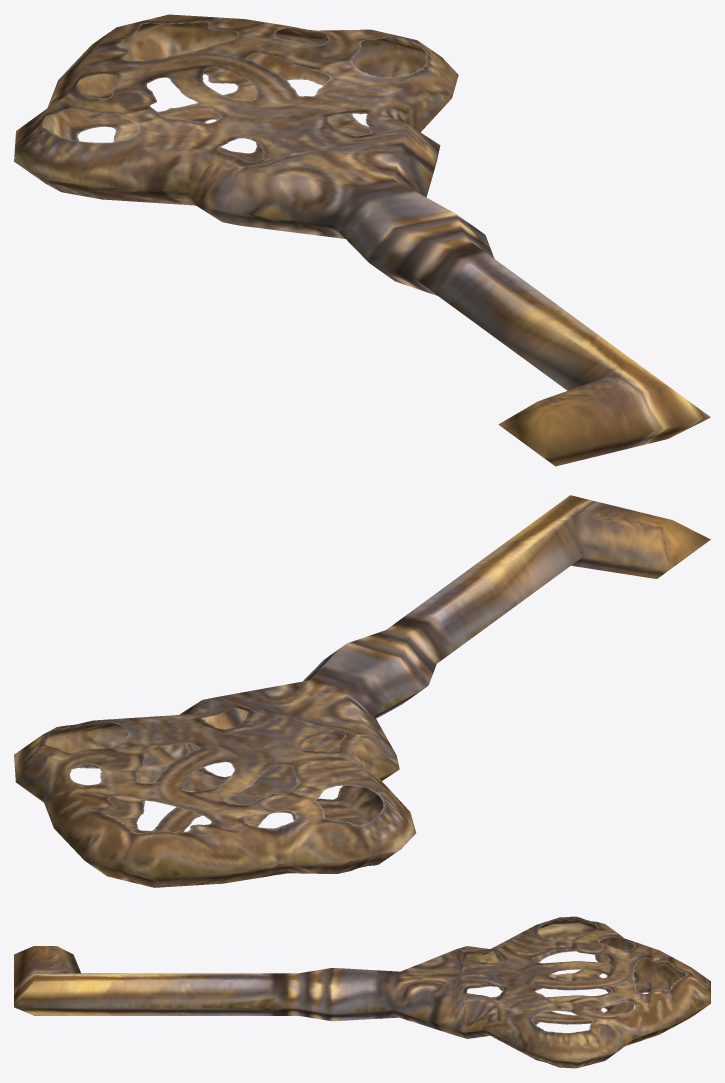
File: key_fancy.fbx
The picture shows the model from 3 angles, top to bottom: view 1: azimuth 30°, elevation 25°; view 2: azimuth 150°, elevation 25°; view 3: azimuth 270°, elevation 25°; orthographic projection. The views are drawn at different scales.
Visible parts, largest first — view 1: key_fancy; view 2: key_fancy; view 3: key_fancy.
Part boxes in pixels (x1,y1,x2,y2): key_fancy: (14, 14, 710, 466); key_fancy: (14, 495, 710, 887); key_fancy: (14, 916, 710, 1068).
Size of the model in its own units: 9.73 by 1.14 by 21.13.
1 material, 1 textured.
